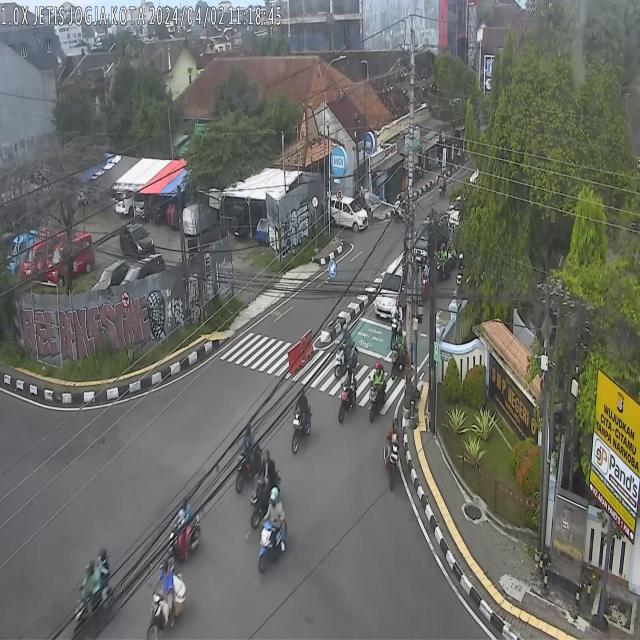car: (374, 249, 406, 319), (414, 212, 448, 264), (328, 195, 368, 231)
motorcycle: (72, 547, 114, 640), (147, 555, 184, 640), (257, 485, 289, 575), (250, 448, 281, 531), (167, 499, 200, 562), (235, 421, 262, 493), (290, 387, 314, 452), (334, 324, 359, 377), (383, 416, 399, 494), (368, 361, 387, 424), (339, 362, 357, 423), (390, 326, 408, 381), (391, 299, 404, 349), (437, 239, 451, 285), (422, 260, 430, 301), (456, 254, 464, 285)
